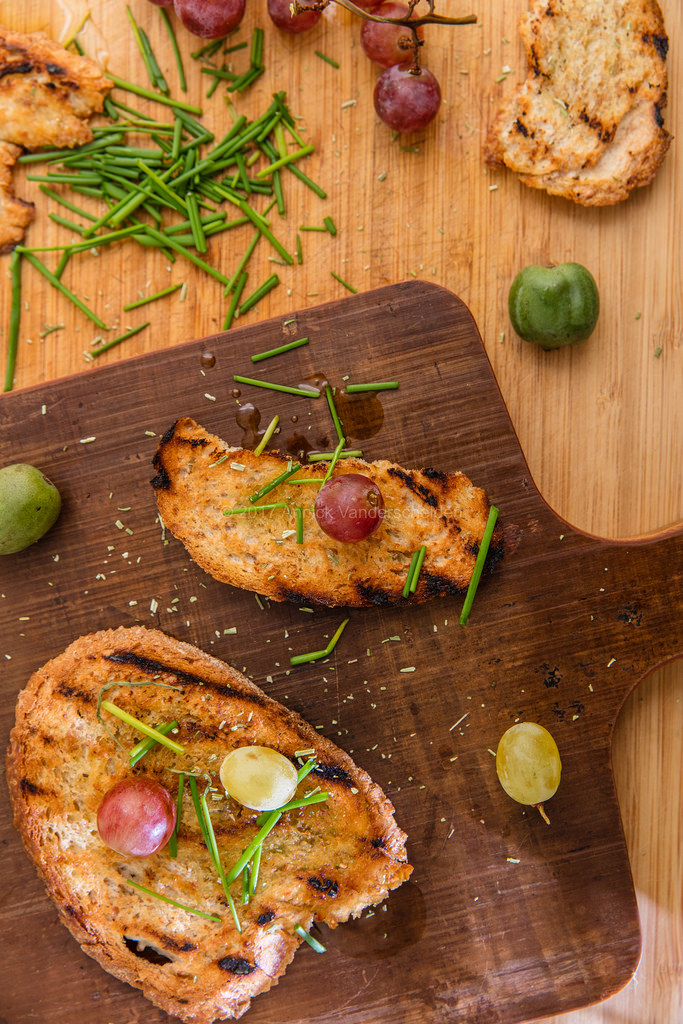slice of bread: (23, 646, 391, 997), (163, 430, 491, 584)
